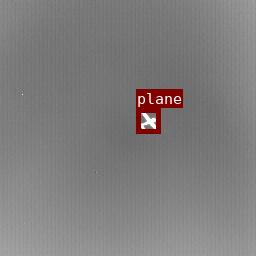plane: (136, 108, 160, 133)
